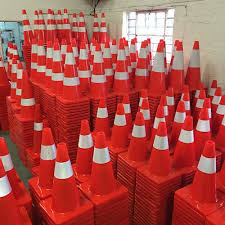cones: (46, 146, 90, 219), (87, 133, 128, 201)
